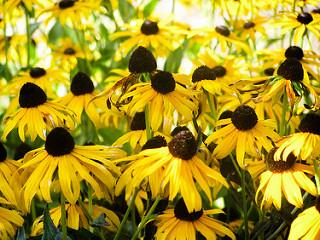sunflower: (122, 128, 234, 209), (17, 129, 129, 203), (0, 81, 82, 139), (128, 69, 205, 127), (253, 144, 320, 206), (210, 104, 277, 159), (254, 56, 320, 111), (150, 198, 236, 240), (111, 17, 189, 52), (53, 71, 111, 117), (271, 4, 320, 42), (196, 18, 252, 48), (8, 64, 68, 87)
